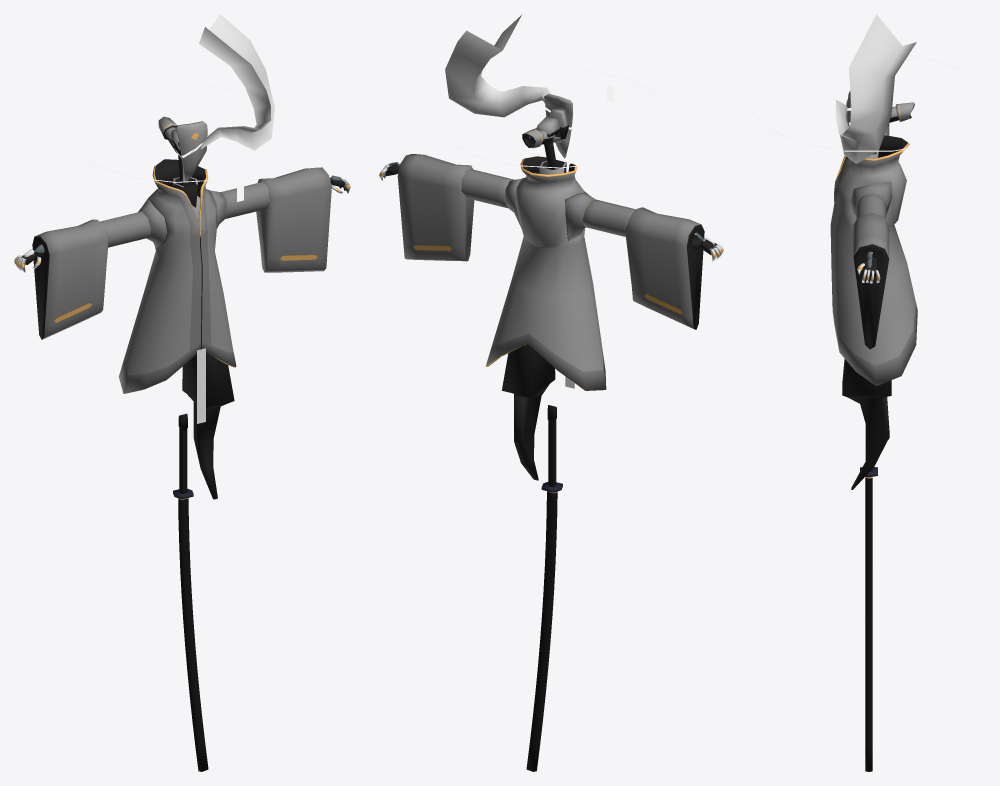
Rendered from GEKKOU_lowpoly.glb.
The picture shows the model from 3 angles, left to right: view 1: azimuth 30°, elevation 25°; view 2: azimuth 150°, elevation 25°; view 3: azimuth 270°, elevation 25°; orthographic projection. The views are drawn at different scales.
Visible parts, largest first — view 1: Circle, Circle.007, Circle.004, BezierCurve.001, legs, Cube.032, Cube.002, Circle.006, Circle.002, Cube.031, Info_circle, Circle.005 (+1 smaller); view 2: Circle, Circle.007, Circle.004, BezierCurve.001, legs, Cube.032, Circle.002, Circle.006, Cube.031, Circle.005, Info_circle, Cube.002; view 3: Circle, BezierCurve.001, Circle.004, legs, Cube.032, Circle.003, Info_circle, Circle.002.
Boxes of the visible parts, <box> form: Circle: <box>118,159,236,393</box>; Circle.007: <box>32,219,108,339</box>; Circle.004: <box>256,167,331,272</box>; BezierCurve.001: <box>185,14,274,158</box>; legs: <box>182,352,234,499</box>; Cube.032: <box>178,498,208,771</box>; Cube.002: <box>175,121,207,182</box>; Circle.006: <box>99,211,150,247</box>; Circle.002: <box>221,182,270,218</box>; Cube.031: <box>173,413,193,499</box>; Info_circle: <box>67,84,299,201</box>; Circle.005: <box>138,197,167,248</box>; Circle: <box>485,156,606,390</box>; Circle.007: <box>625,207,704,329</box>; Circle.004: <box>397,154,474,261</box>; BezierCurve.001: <box>445,15,550,117</box>; legs: <box>502,344,555,480</box>; Cube.032: <box>526,491,557,771</box>; Circle.002: <box>461,169,514,208</box>; Circle.006: <box>582,199,635,236</box>; Cube.031: <box>541,405,562,492</box>; Circle.005: <box>565,192,595,240</box>; Info_circle: <box>433,67,670,168</box>; Cube.002: <box>544,93,573,158</box>; Circle: <box>830,135,917,386</box>; BezierCurve.001: <box>835,14,916,163</box>; Circle.004: <box>853,212,889,349</box>; legs: <box>842,359,891,489</box>; Cube.032: <box>865,477,872,771</box>; Circle.003: <box>851,181,892,216</box>; Info_circle: <box>752,52,985,151</box>; Circle.002: <box>856,193,886,219</box>.
Bounding box in the file's own units: 1.64 × 3.51 × 0.9816.
